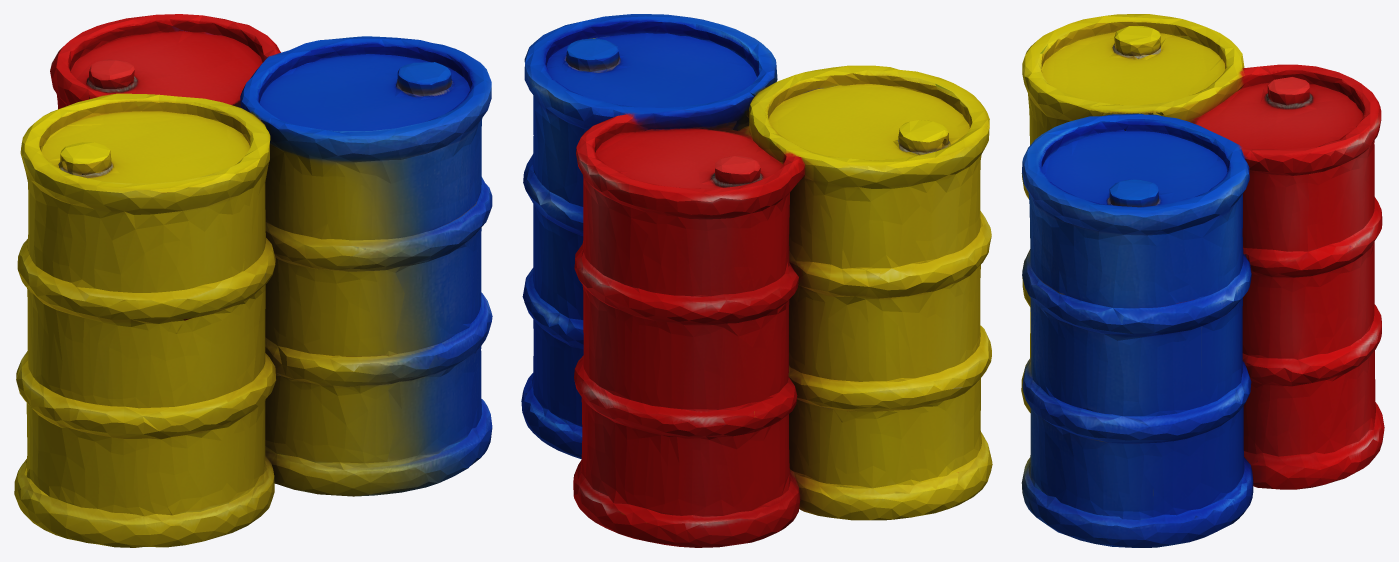
The model's file is oil_barrels.glb.
The picture shows the model from 3 angles, left to right: view 1: azimuth 30°, elevation 25°; view 2: azimuth 150°, elevation 25°; view 3: azimuth 270°, elevation 25°; orthographic projection. The views are drawn at different scales.
Visible parts, largest first — view 1: geometry_0; view 2: geometry_0; view 3: geometry_0.
Part boxes in pixels (left/top/right/bottom): geometry_0: left=14, top=14, right=492, bottom=547; geometry_0: left=521, top=14, right=992, bottom=547; geometry_0: left=1021, top=14, right=1384, bottom=547.
Bounding box in the file's own units: 0.9979 × 0.7756 × 0.7504.
Materials: 1 (1 with a texture image).
